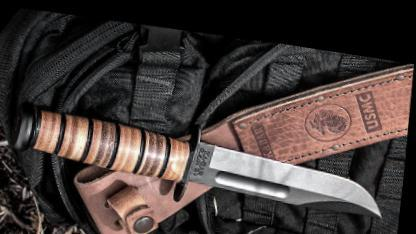knife: (172, 113, 395, 216)
